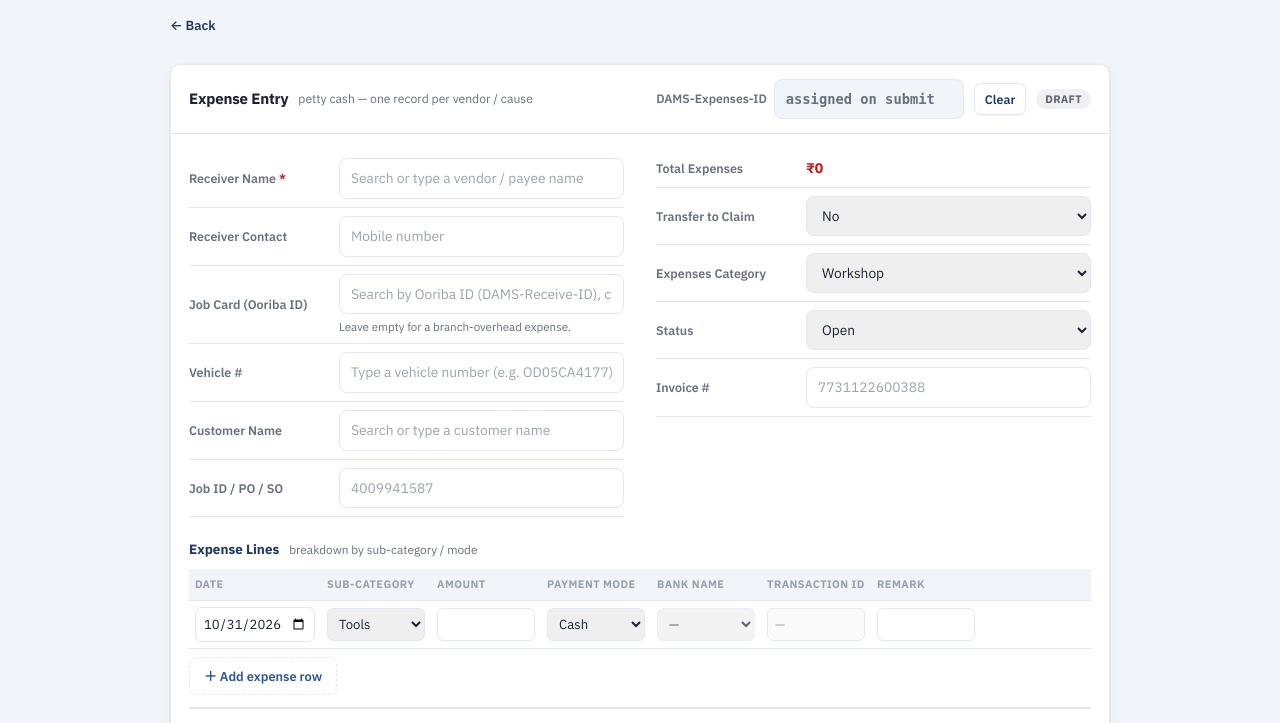
Expense form (rev 76) › treats a typed name as a new vendor
The image size is (1280, 723).
In the field named "Receiver name": point(482, 179) [339, 158, 624, 199], type "Brand New Garage"
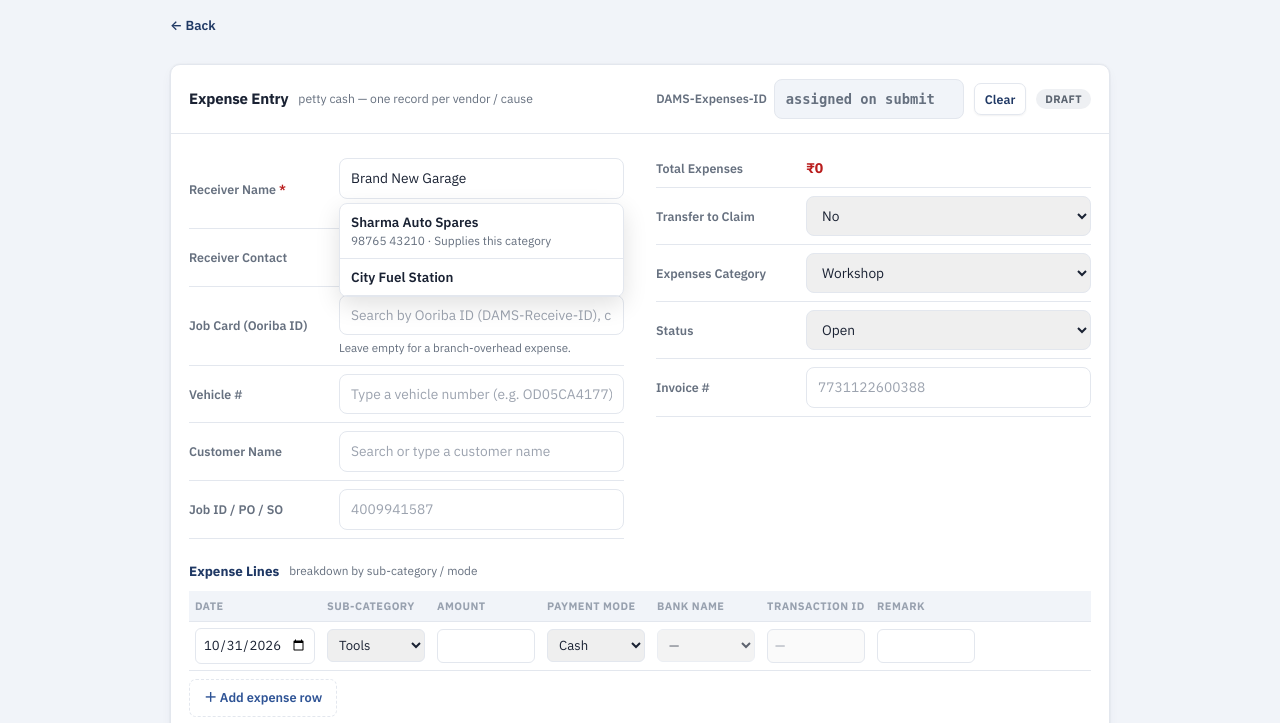
Expected: the text "New vendor — will be added when you save." is shown, [339, 204, 566, 219]
